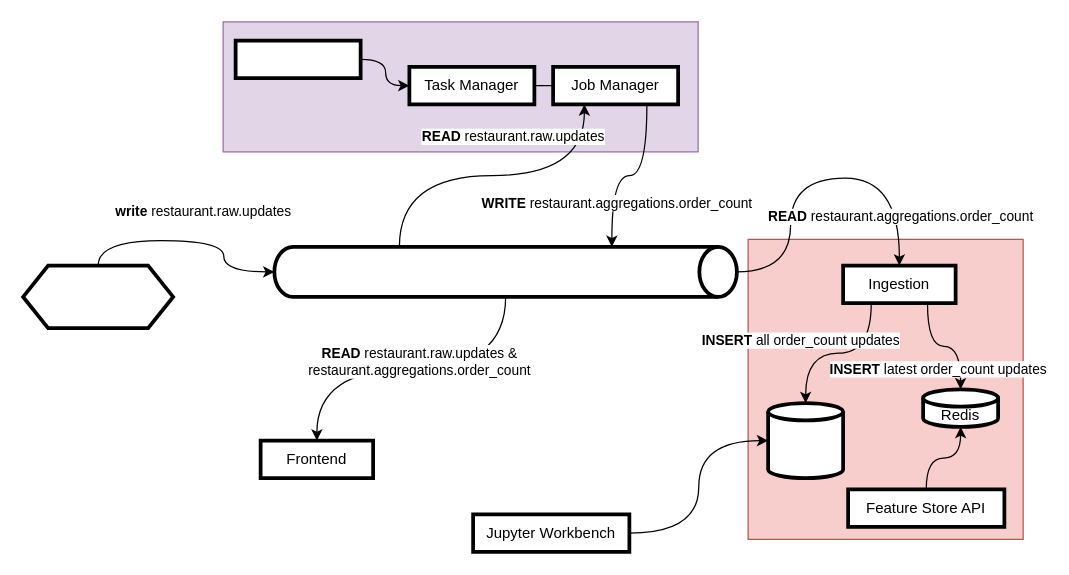
This 1069x575 diagram has some shape labels left out. Here are the shapes that lost their labels. From the top down, the centre of each, then its label:
At (297,58): "SQL Client".
At (97,296): "Restaurants (producer)".
At (805,440): "MySQL".
